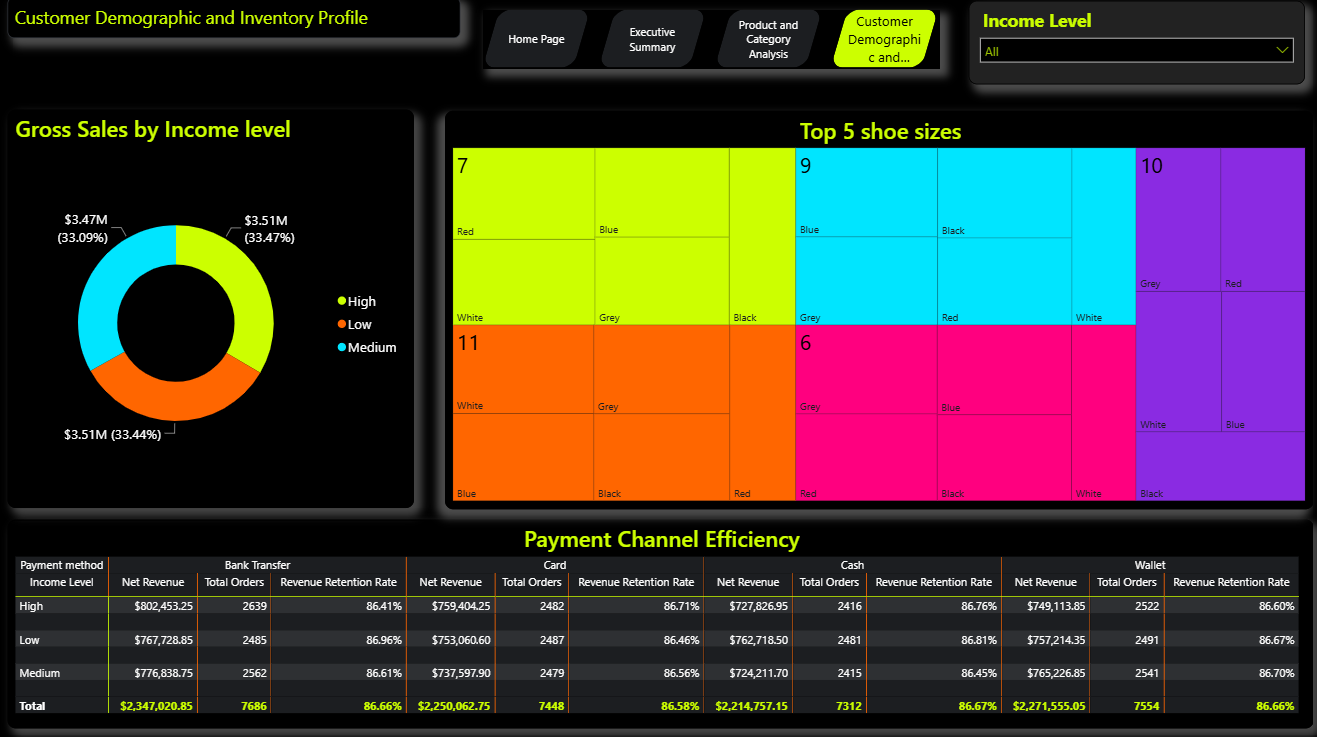

The page's visual inventory and layout, read from the dashboard file:
{"tool":"powerbi","page":{"name":"Customer Demographic and Inventory profile ","canvas":[1600,900],"ordinal":3},"visuals":[{"type":"textbox","box":[9.7,0,546.5,49.5],"z":0},{"type":"slicer","fields":{"Values":["dim_order_context.customer_income_level"]},"box":[1168.7,4.5,405.7,101],"z":1000},{"type":"donutChart","fields":{"Y":["_Measures.Gross Sales"],"Category":["dim_order_context.customer_income_level"]},"box":[9,135.7,490.1,481.1],"z":2000},{"type":"pivotTable","title":"Payment Channel Efficiency","fields":{"Rows":["dim_order_context.customer_income_level"],"Columns":["dim_order_context.payment_method"],"Values":["_Measures.Net Revenue","_Measures.Total Orders","_Measures.Revenue Retention Rate"]},"box":[9,630.4,1575.9,251.8],"z":3000},{"type":"treemap","title":"Top 5 shoe sizes","fields":{"Group":["dim_products.size"],"Values":["_Measures.Net Revenue"],"Details":["dim_products.color"]},"box":[536.9,137.2,1048.1,481.1],"z":4000},{"type":"pageNavigator","box":[582.1,15.1,551.9,70.9],"z":5000}]}

Visuals, with their boxes in screenshot pixels (x1, y1, x2, y2), scaled from the page's 1600x900 canvas onto the 1317x737 screenshot:
textbox: crop(8, 0, 458, 41)
slicer - dim_order_context.customer_income_level: crop(962, 4, 1296, 86)
donutChart - _Measures.Gross Sales x dim_order_context.customer_income_level: crop(7, 111, 411, 505)
"Payment Channel Efficiency" pivotTable: crop(7, 516, 1305, 722)
"Top 5 shoe sizes" treemap: crop(442, 112, 1305, 506)
pageNavigator: crop(479, 12, 933, 70)
